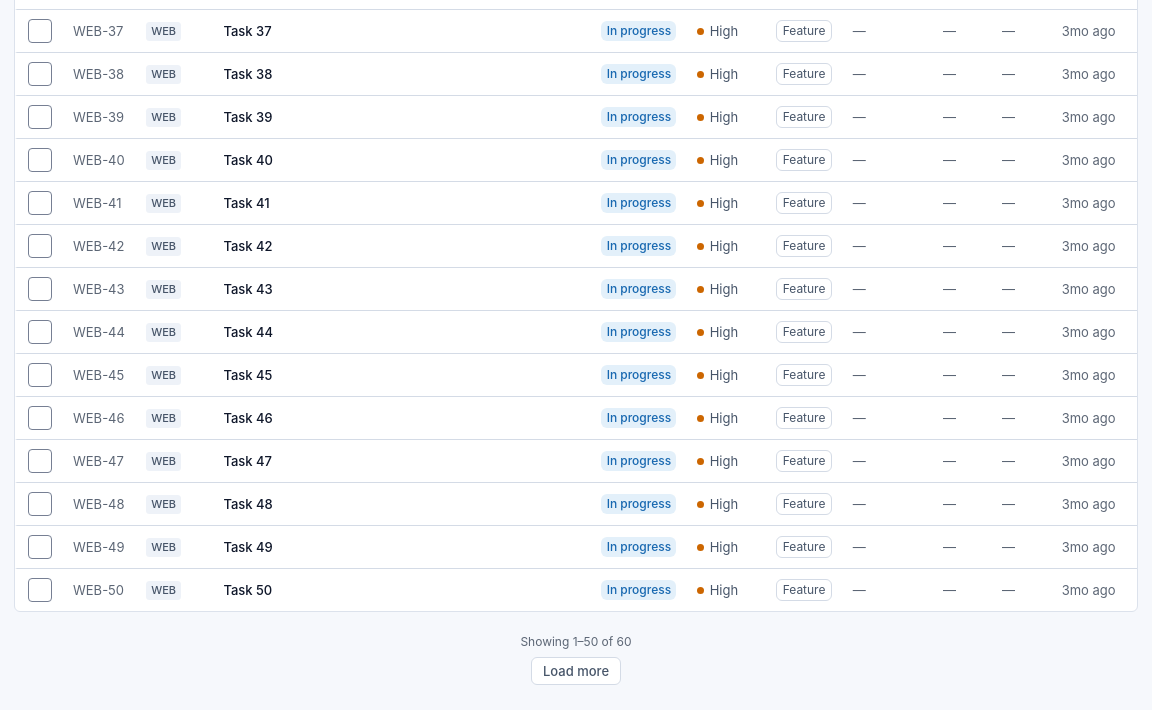
Test case: ListView pagination › drops the control once every row is loaded
(page scrolled)
Check: the text "Showing 1–50 of 60" is shown, box [520,633,632,650]
Click the button "Load more" at (576,671), box [532,657,620,685]
(page scrolled)
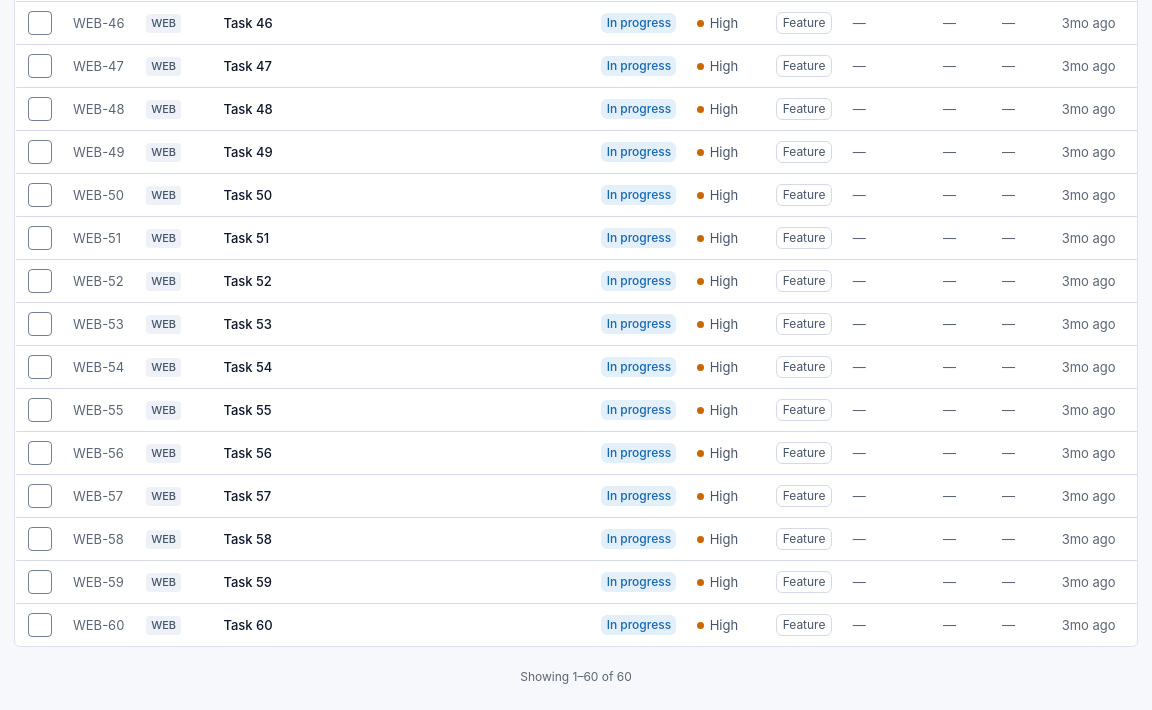
Check: the text "Showing 1–60 of 60" is shown, box [520,668,632,685]
Check: the button "Load more" is gone
